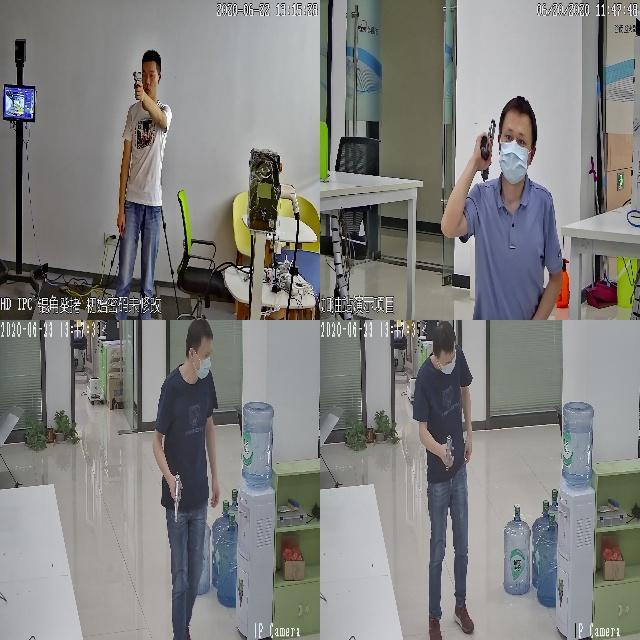gun-knife-thesis - v11 Yolov5 augmented: (475, 115, 494, 183), (168, 468, 181, 522), (440, 430, 453, 473), (131, 68, 141, 101)
